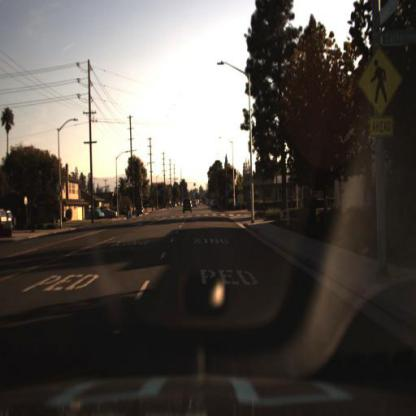car: (81, 207, 105, 225), (180, 194, 196, 218), (84, 208, 106, 221), (102, 205, 119, 221), (134, 204, 149, 221), (135, 202, 147, 218)
